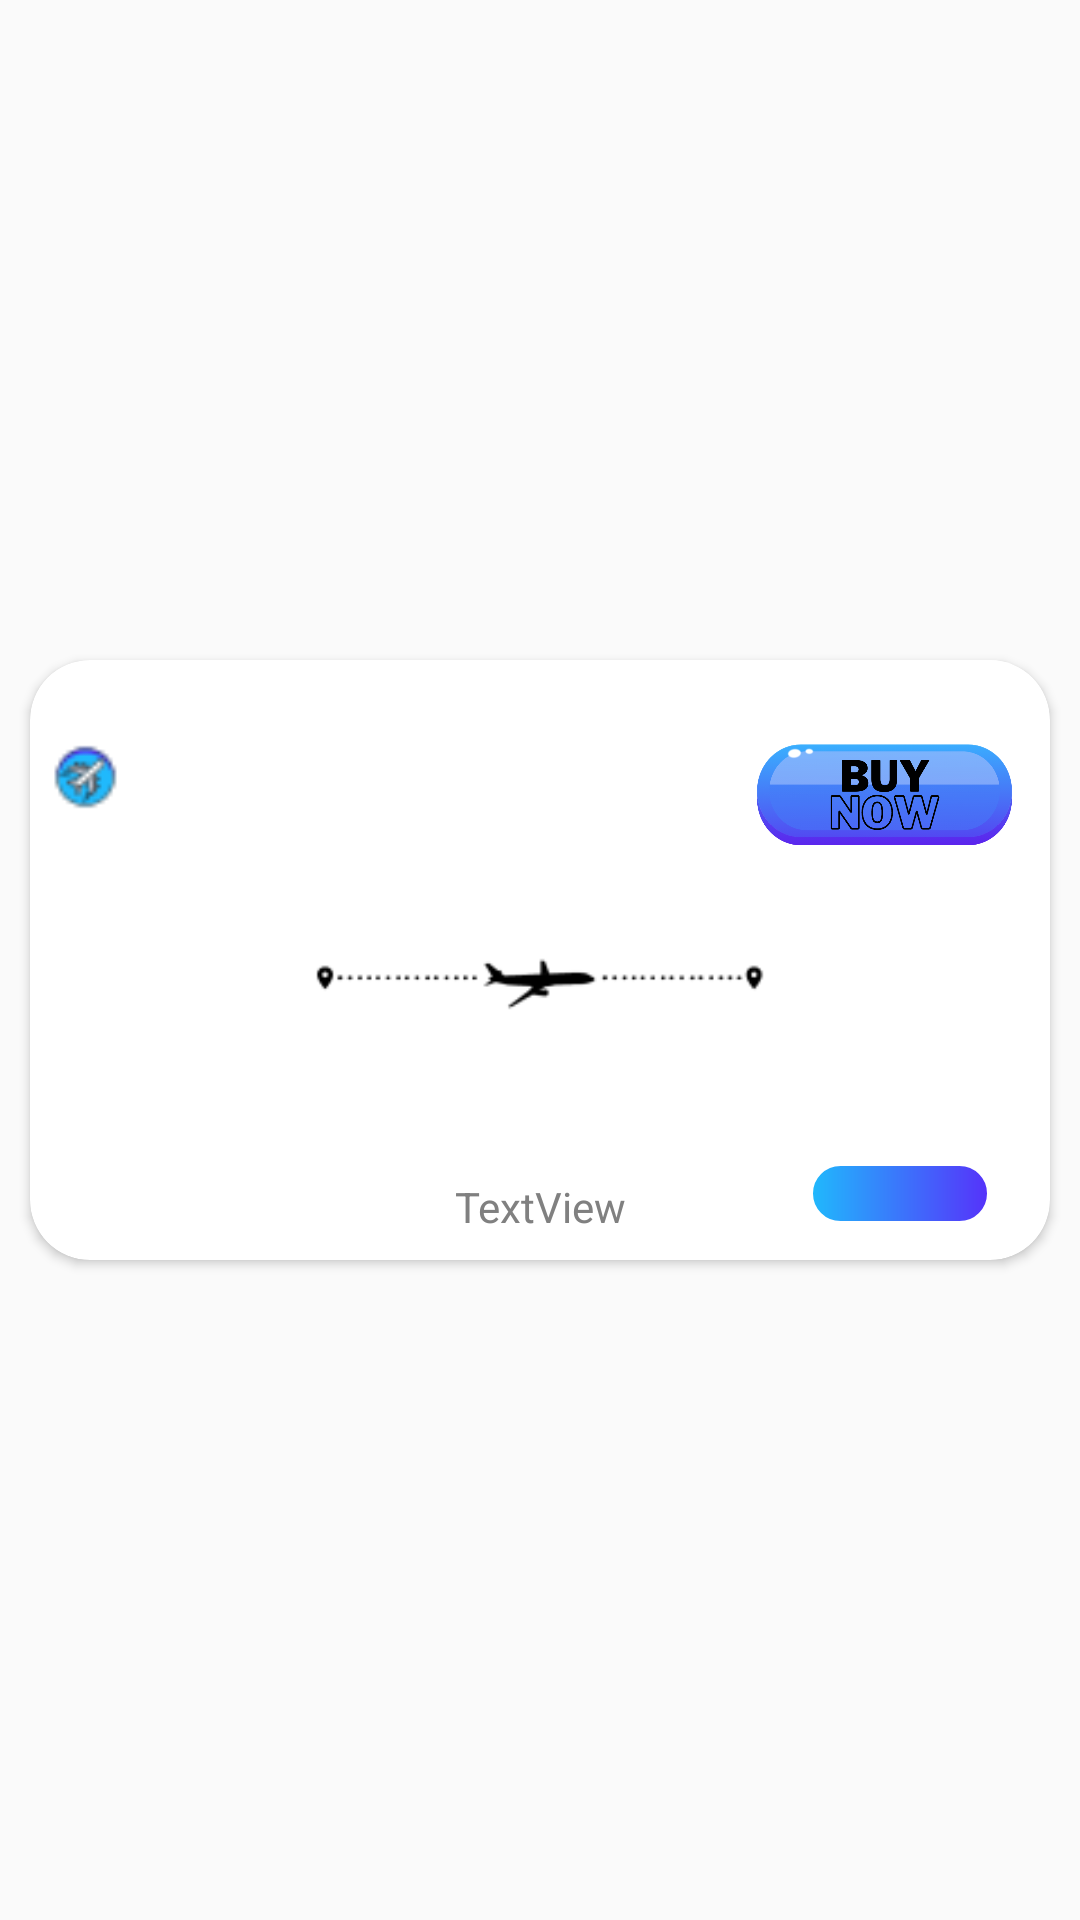

Where to tap for icons on this 1080×1920 app screen, as (x=x, y=y):
airplane flight: (x=85, y=777)
